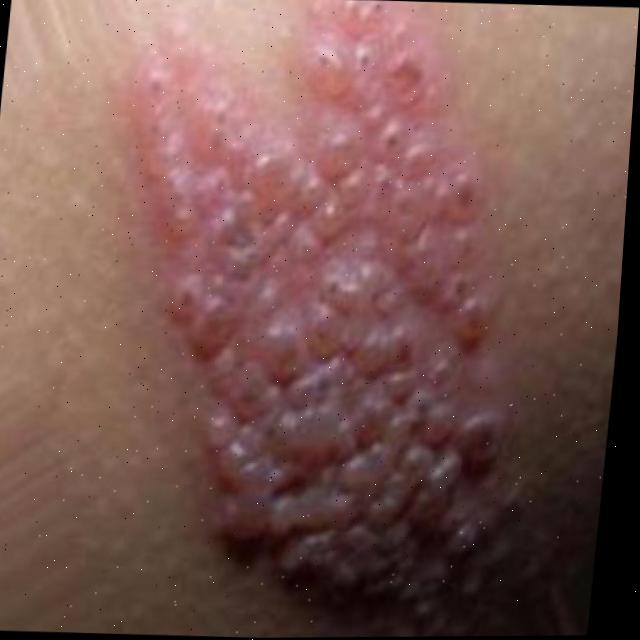Shingles: (70, 0, 597, 636)
